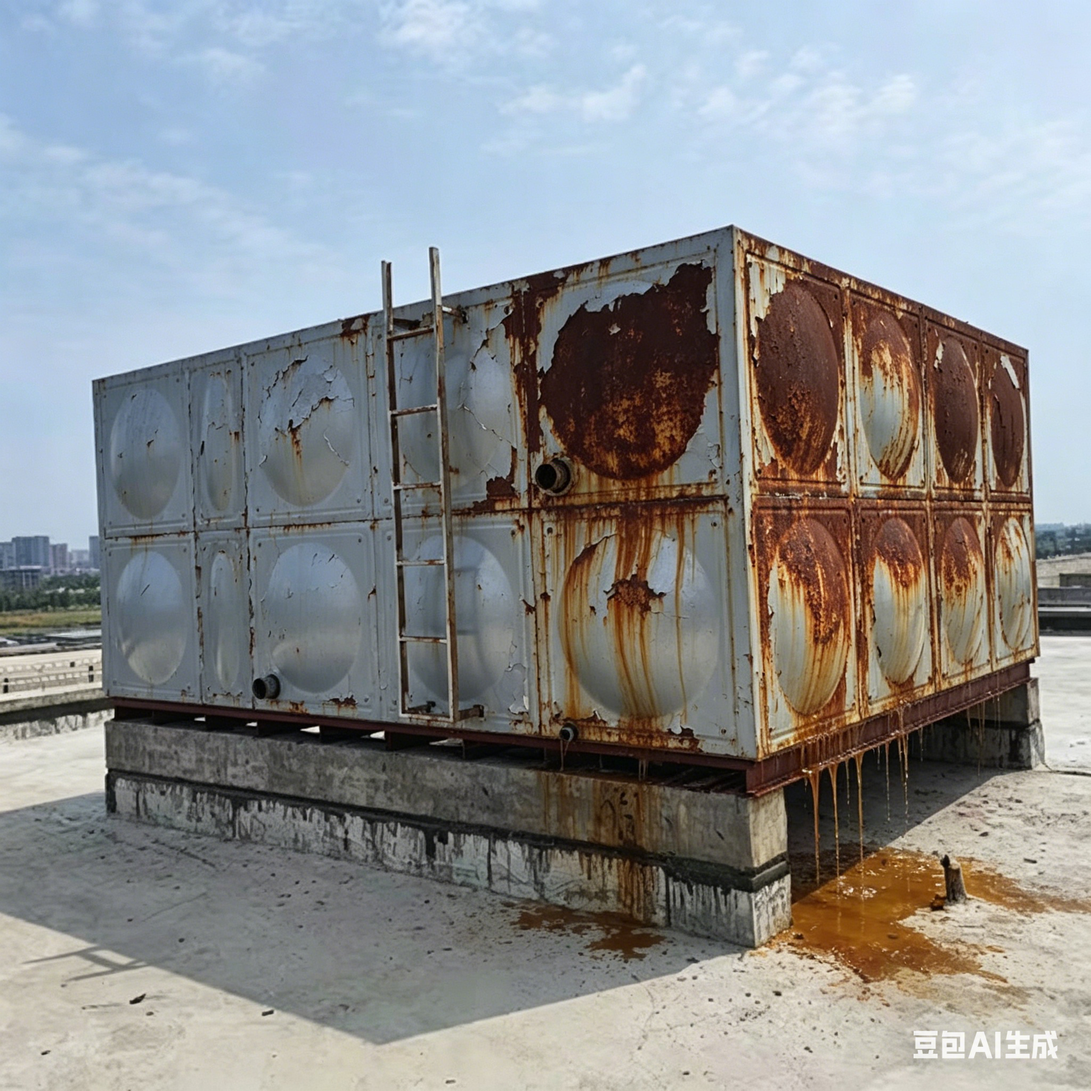Leakage: (790, 750, 973, 965)
